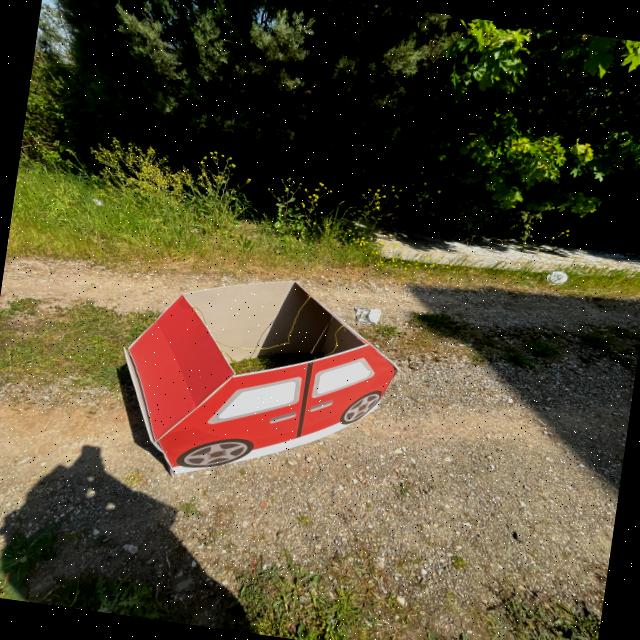red_car: (78, 241, 433, 530)
